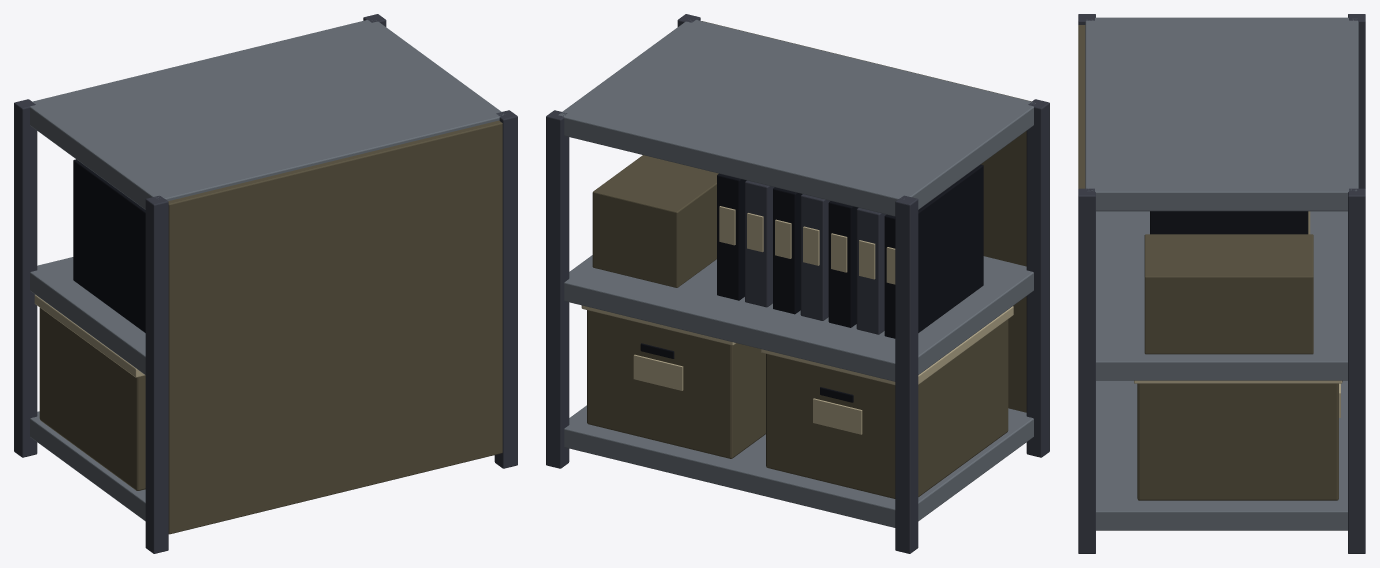
The model's file is storage_shelf.glb.
3 views of the same model, side by side, from view 1: azimuth 30°, elevation 25°; view 2: azimuth 150°, elevation 25°; view 3: azimuth 270°, elevation 25° (orthographic). The views are drawn at different scales.
Visible parts, largest first — view 1: storage_shelf; view 2: storage_shelf; view 3: storage_shelf.
Part boxes in pixels (x1,y1,x2,y2): storage_shelf: [14, 14, 517, 553]; storage_shelf: [546, 14, 1049, 553]; storage_shelf: [1078, 14, 1365, 553].
Bounding box in the file's own units: 1.2 × 1.1 × 0.8.
